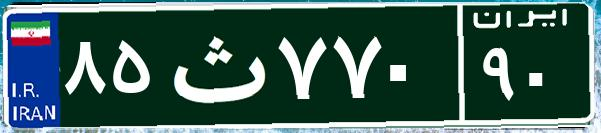0: (385, 28, 445, 110), (525, 38, 570, 115)
5: (110, 28, 158, 105)
7: (273, 28, 330, 110), (330, 28, 385, 110)
8: (57, 26, 110, 107)
9: (475, 38, 525, 113)
ث: (158, 15, 273, 115)
